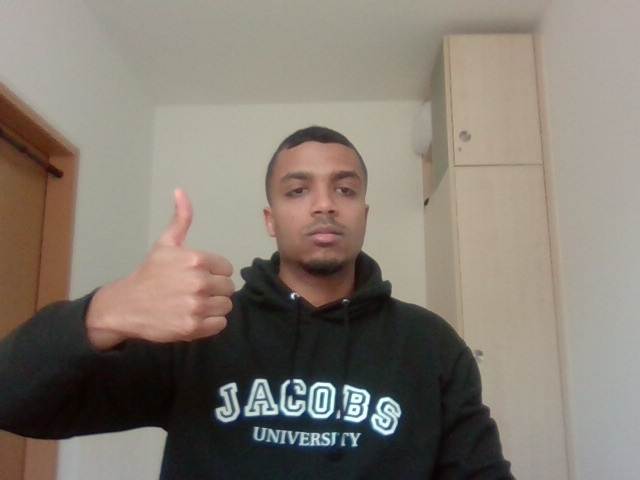perfect: (109, 170, 249, 366)
